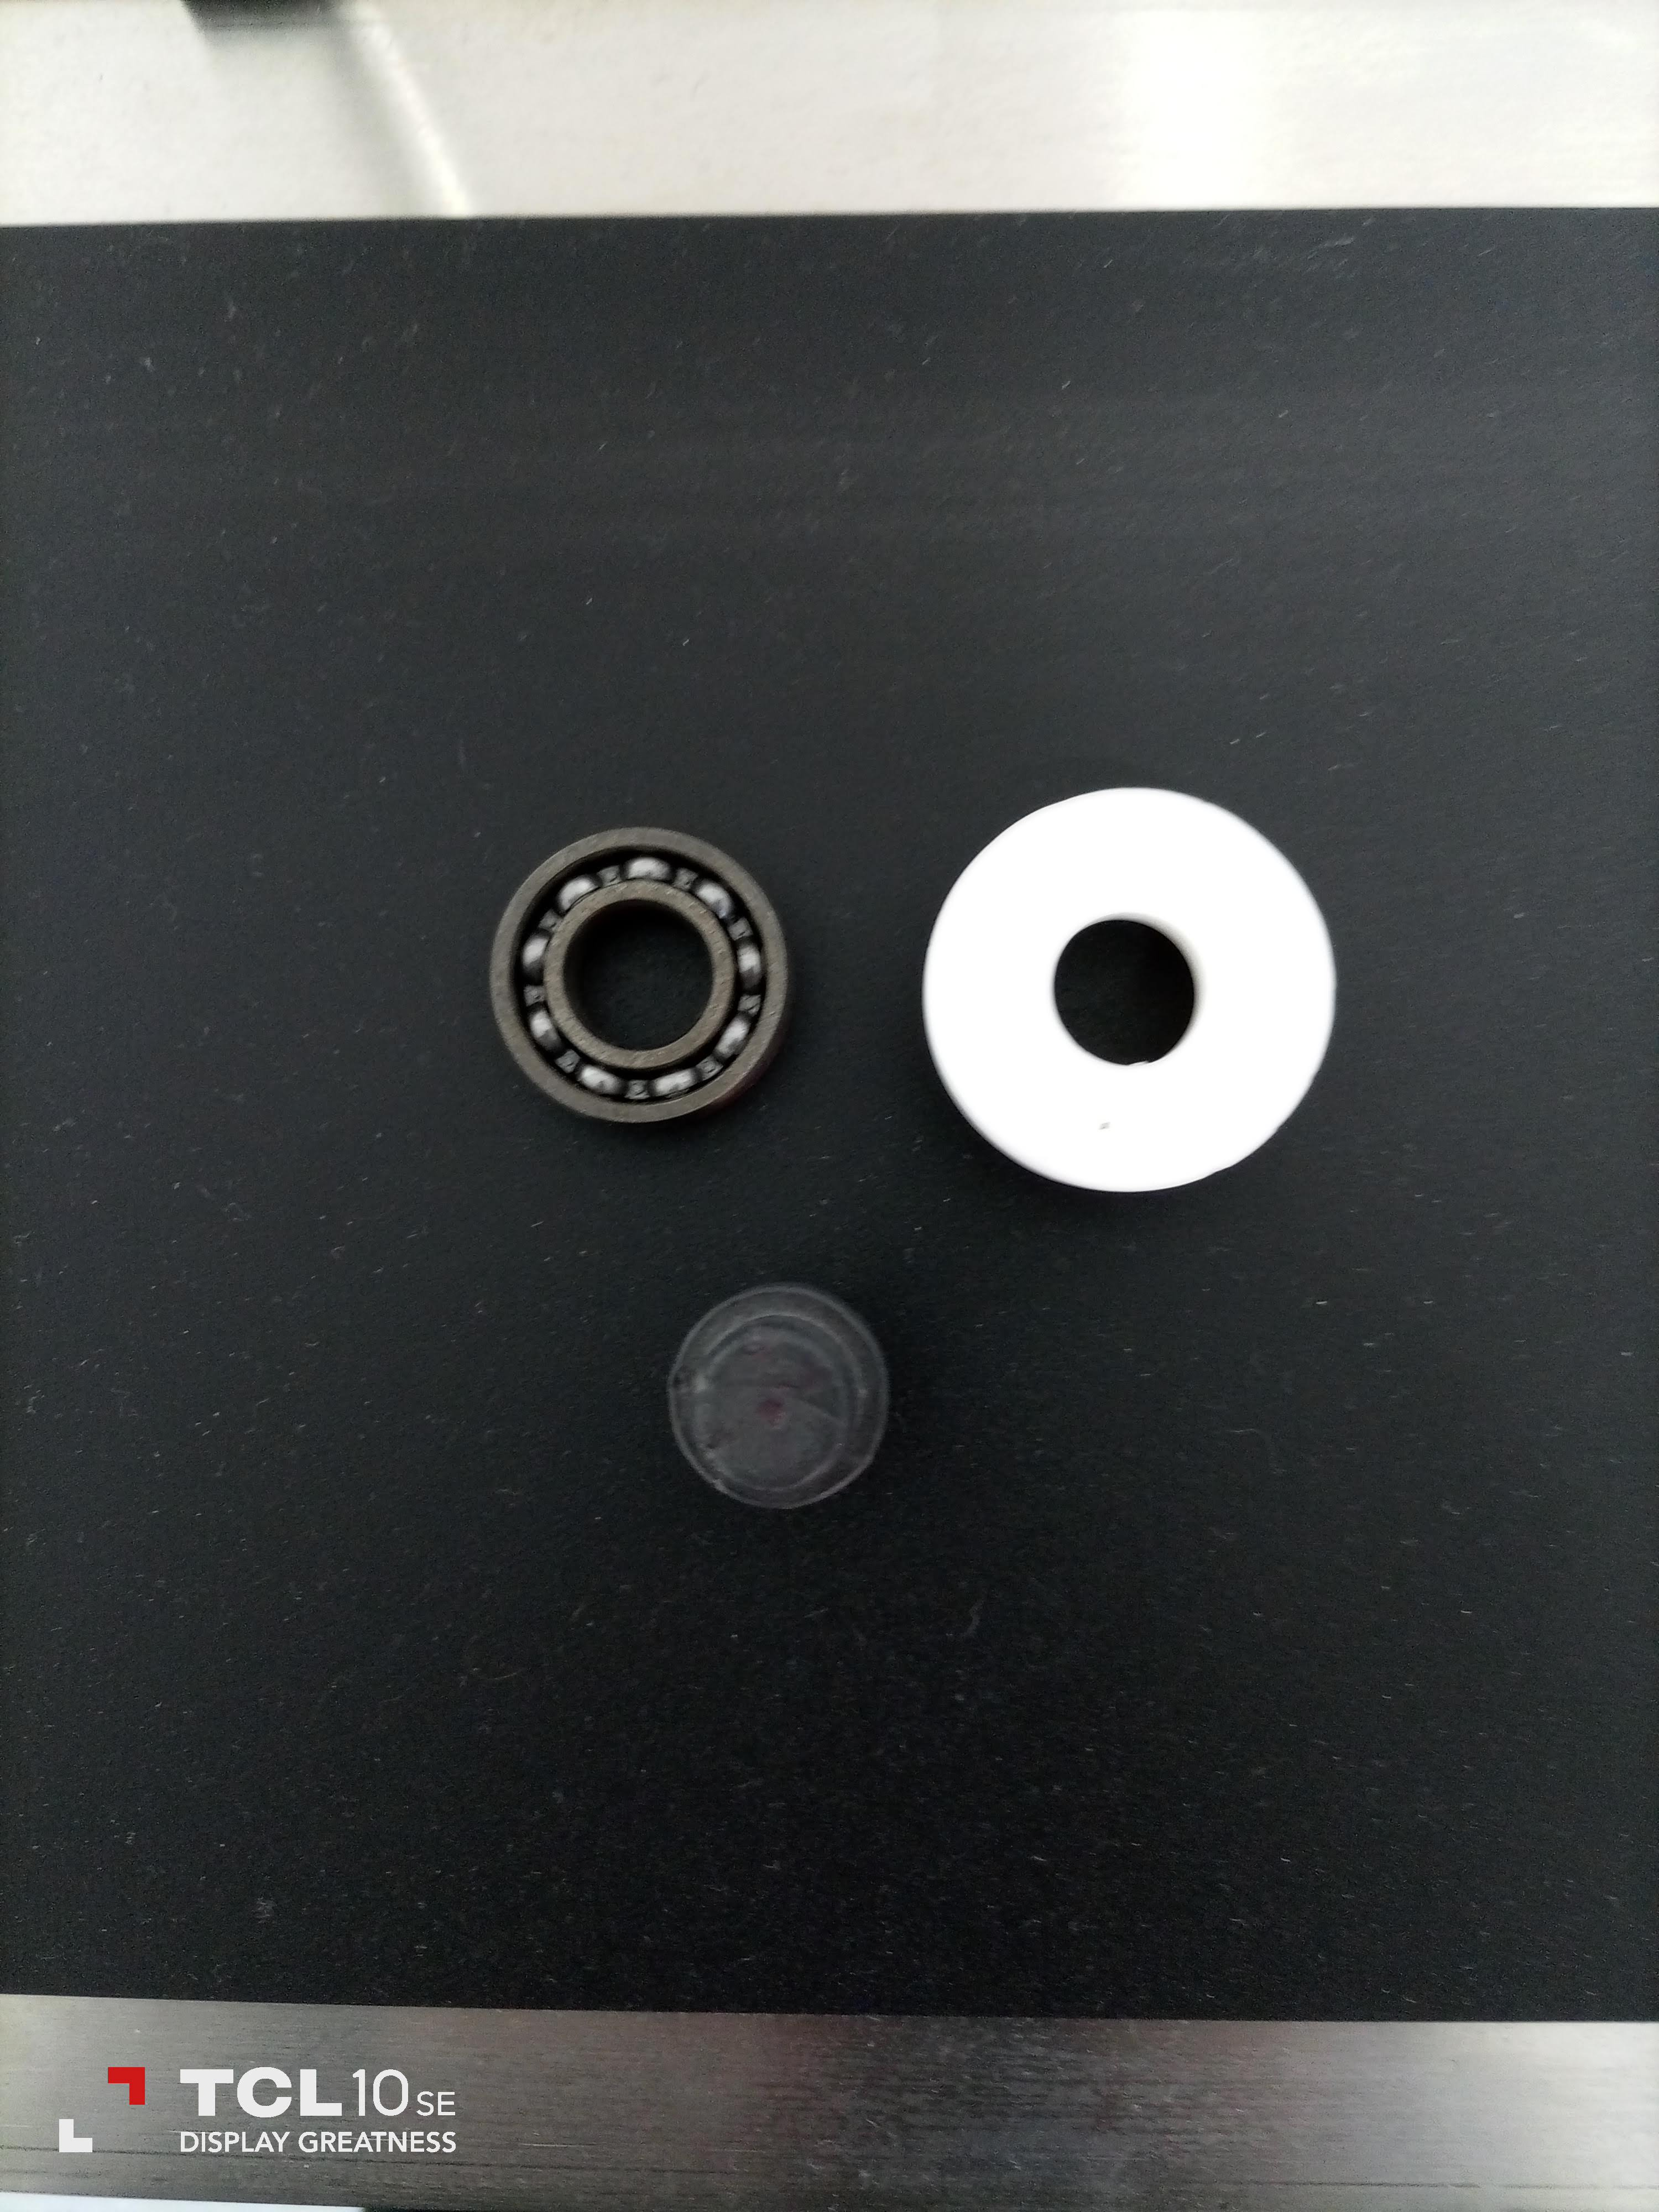Ardatza: (664, 1287, 903, 1538)
Roda: (483, 815, 803, 1106)
Tapa: (915, 777, 1368, 1195)
